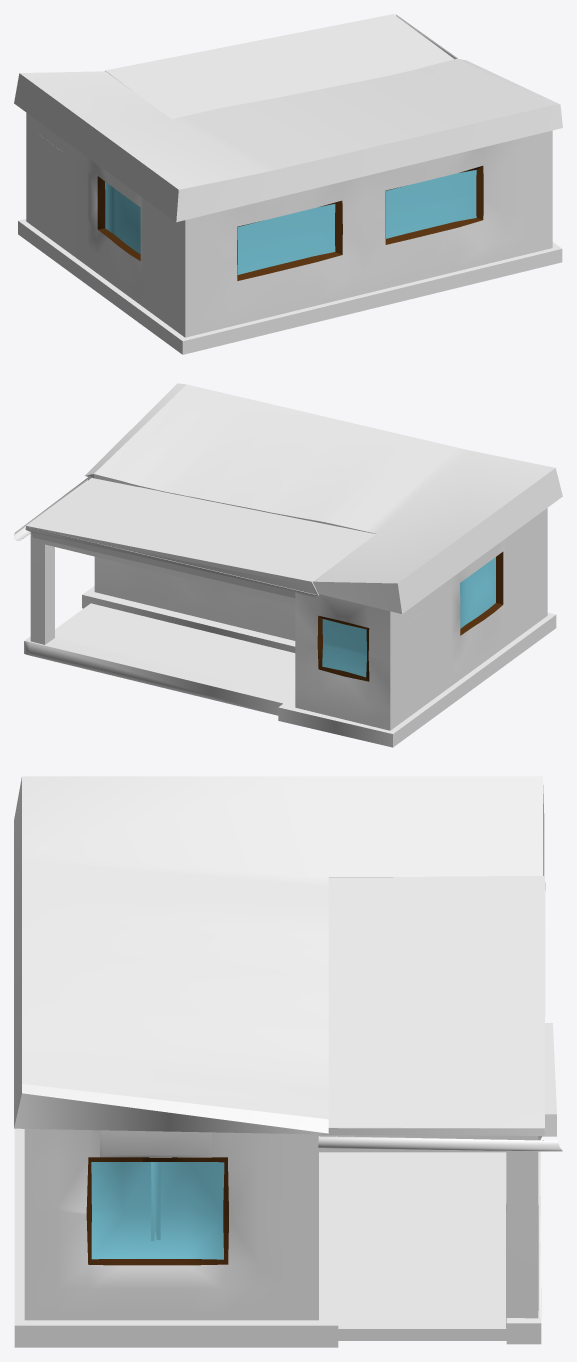
The model's file is House3.fbx.
3 views of the same model, one above another, from view 1: azimuth 30°, elevation 25°; view 2: azimuth 150°, elevation 25°; view 3: azimuth 270°, elevation 25° (orthographic). The views are drawn at different scales.
Visible parts, largest first — view 1: Cube; view 2: Cube; view 3: Cube.
Part boxes in pixels (x1,y1,x2,y2): Cube: (14,14,562,354); Cube: (14,383,562,747); Cube: (14,776,562,1347).
Bounding box in the file's own units: 686 × 278 × 516.
